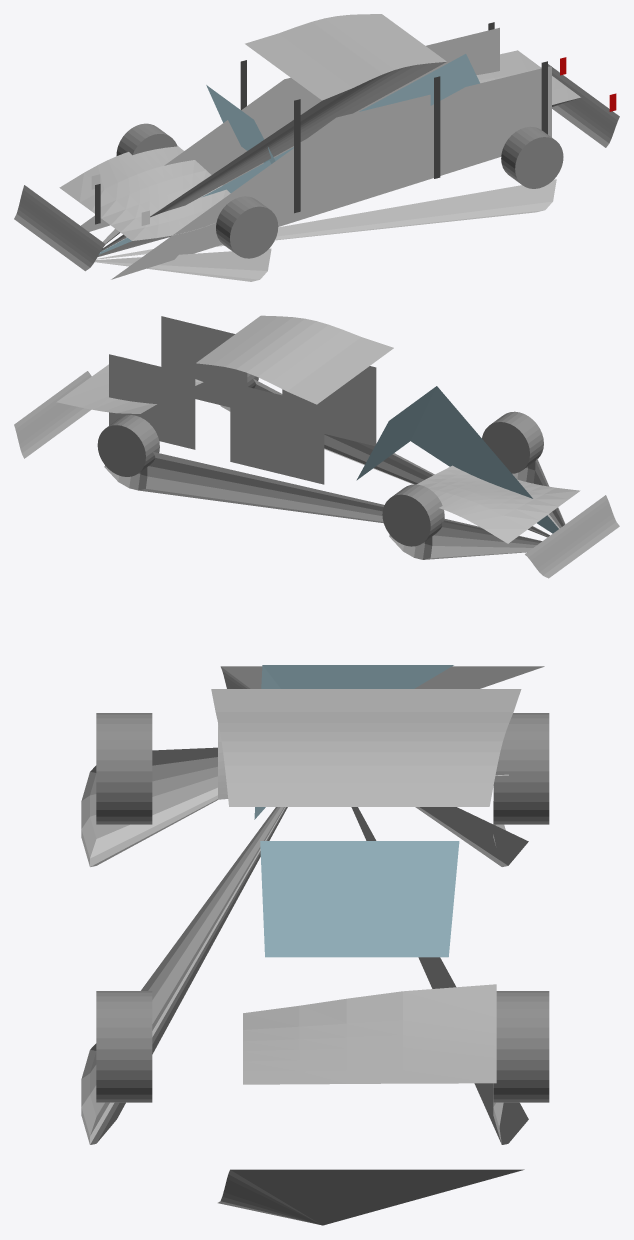
The model's file is car_model_1783985456.glb.
3 renders of one model, top to bottom at view 1: azimuth 30°, elevation 25°; view 2: azimuth 150°, elevation 25°; view 3: azimuth 270°, elevation 25°, orthographic. The views are drawn at different scales.
Visible parts, largest first — view 1: left后门, 车顶, left前门, 发动机盖, leftrear翼子板, right前门, right后门, 前保险杠, leftfront轮, leftrear轮, 后风挡玻璃, leftfront翼子板 (+7 smaller); view 2: 车顶, rightrear翼子板, right前门, 前风挡玻璃, 发动机盖, right后门, left后门, left前门, 前保险杠, rightfront轮, rightfront翼子板, rightrear轮 (+5 smaller); view 3: 车顶, 后风挡玻璃, 行李箱盖, 后保险杠, leftrear翼子板, leftfront翼子板, leftfront轮, leftrear轮, rightrear轮, rightfront轮, 前风挡玻璃, rightfront翼子板 (+2 smaller).
Part boxes in pixels (x1,y1,x2,y2): left后门: (112, 66, 551, 279); 车顶: (100, 14, 446, 251); left前门: (111, 94, 430, 279); 发动机盖: (59, 146, 230, 257); leftrear翼子板: (96, 179, 556, 259); right前门: (81, 77, 378, 231); right后门: (84, 27, 499, 231); 前保险杠: (14, 185, 105, 271); leftfront轮: (216, 196, 278, 258); leftrear轮: (501, 126, 563, 188); 后风挡玻璃: (99, 54, 479, 254); leftfront翼子板: (95, 248, 271, 281); 车顶: (196, 315, 393, 404); rightrear翼子板: (104, 452, 542, 541); right前门: (230, 383, 324, 484); 前风挡玻璃: (356, 386, 558, 533); 发动机盖: (416, 465, 580, 543); right后门: (109, 354, 195, 449); left后门: (161, 316, 247, 407); left前门: (282, 366, 376, 445); 前保险杠: (525, 495, 619, 578); rightfront轮: (382, 484, 444, 546); rightfront翼子板: (389, 521, 540, 559); rightrear轮: (97, 415, 159, 476); 车顶: (211, 689, 521, 806); 后风挡玻璃: (260, 841, 459, 957); 行李箱盖: (243, 984, 496, 1084); 后保险杠: (218, 1169, 524, 1225); leftrear翼子板: (81, 807, 287, 1144); leftfront翼子板: (81, 747, 217, 866); leftfront轮: (96, 713, 152, 824); leftrear轮: (96, 991, 152, 1102); rightrear轮: (493, 991, 549, 1102); rightfront轮: (493, 713, 549, 824); 前风挡玻璃: (254, 665, 453, 819); rightfront翼子板: (415, 801, 528, 866).
Size of the model in its own units: 4960 by 1285 by 1898.
